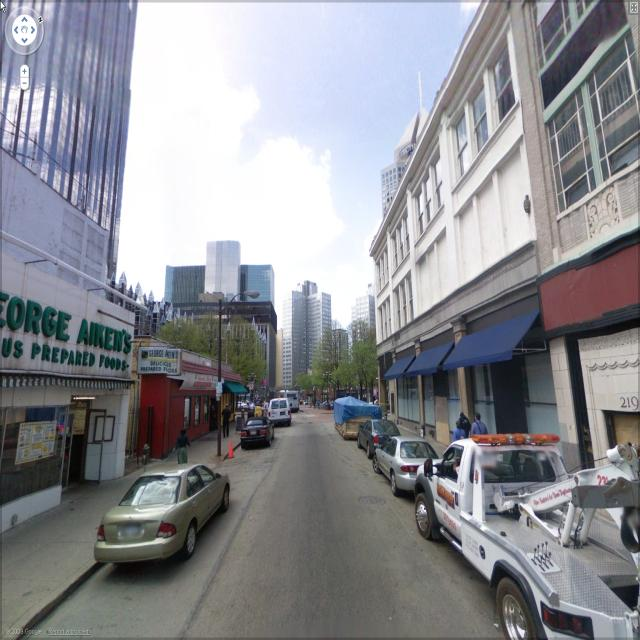b_1: (518, 3, 638, 339), (416, 9, 522, 344), (0, 10, 120, 296), (1, 288, 129, 477), (143, 247, 279, 325), (375, 228, 413, 350), (378, 146, 427, 196)
b_2: (150, 305, 280, 395), (288, 278, 329, 394), (350, 286, 378, 405), (327, 321, 351, 407)
